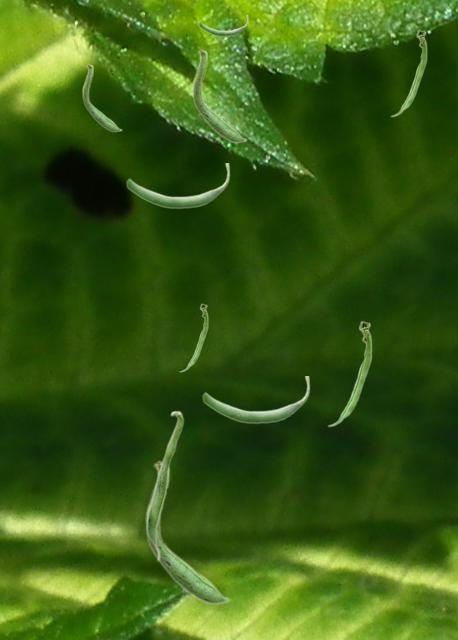french_bean: (145, 459, 229, 604), (146, 410, 183, 561), (192, 48, 246, 142), (202, 376, 309, 423), (327, 320, 371, 426), (126, 163, 229, 208), (390, 29, 426, 116), (82, 63, 121, 131), (179, 303, 207, 371), (199, 15, 247, 35)
